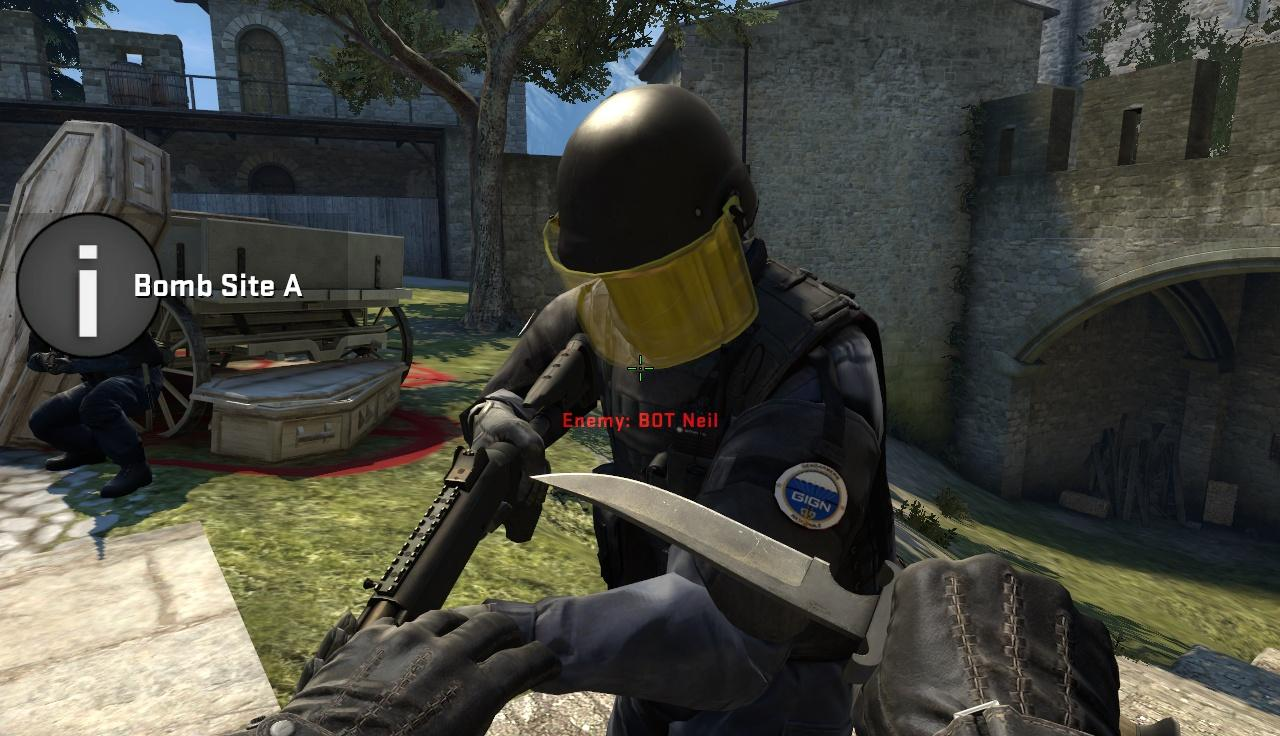ct: (483, 80, 895, 736)
cthead: (547, 92, 756, 365)
